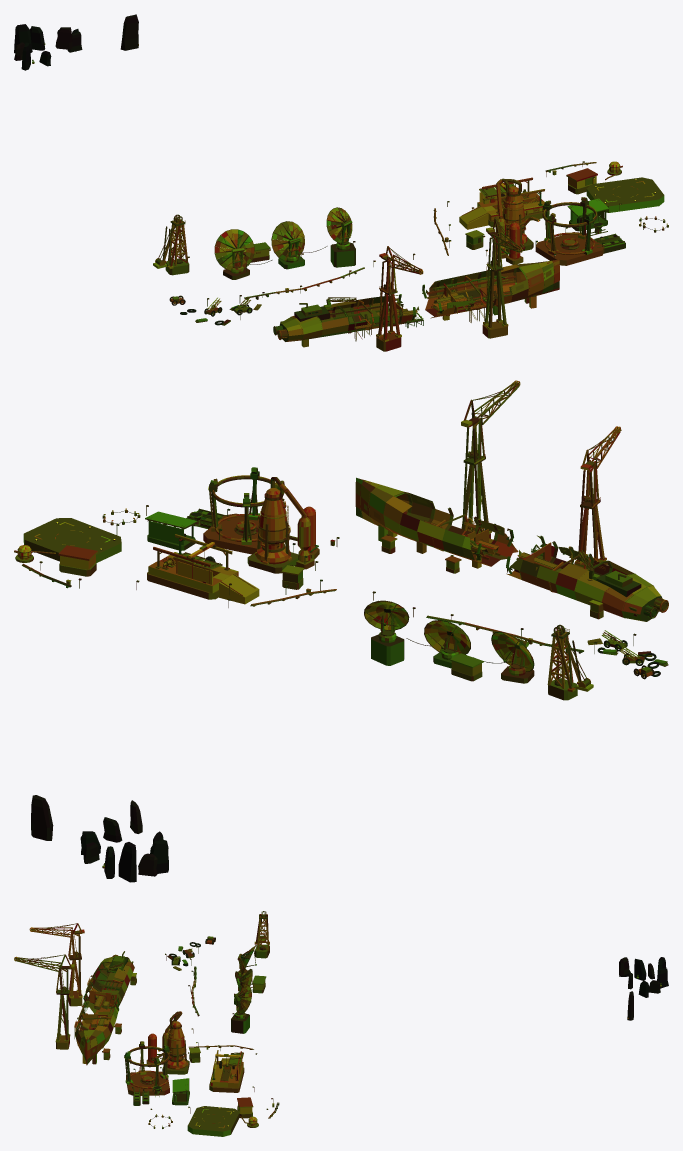
Rendered from fill.glb.
3 renders of one model, top to bottom at view 1: azimuth 30°, elevation 25°; view 2: azimuth 150°, elevation 25°; view 3: azimuth 270°, elevation 25°, orthographic. The views are drawn at different scales.
Parts seen in each view (by area): view 1: fill_geo; view 2: fill_geo; view 3: fill_geo.
Boxes of the visible parts, x1=… form: fill_geo: x1=14, y1=14, x2=668, y2=351; fill_geo: x1=14, y1=380, x2=668, y2=882; fill_geo: x1=14, y1=911, x2=668, y2=1136.
Bounding box in the file's own units: 290 × 64.6 × 418.
